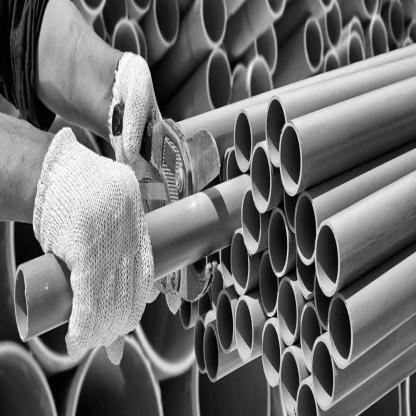PVC: (145, 40, 415, 415), (81, 1, 414, 121), (14, 254, 74, 341)
